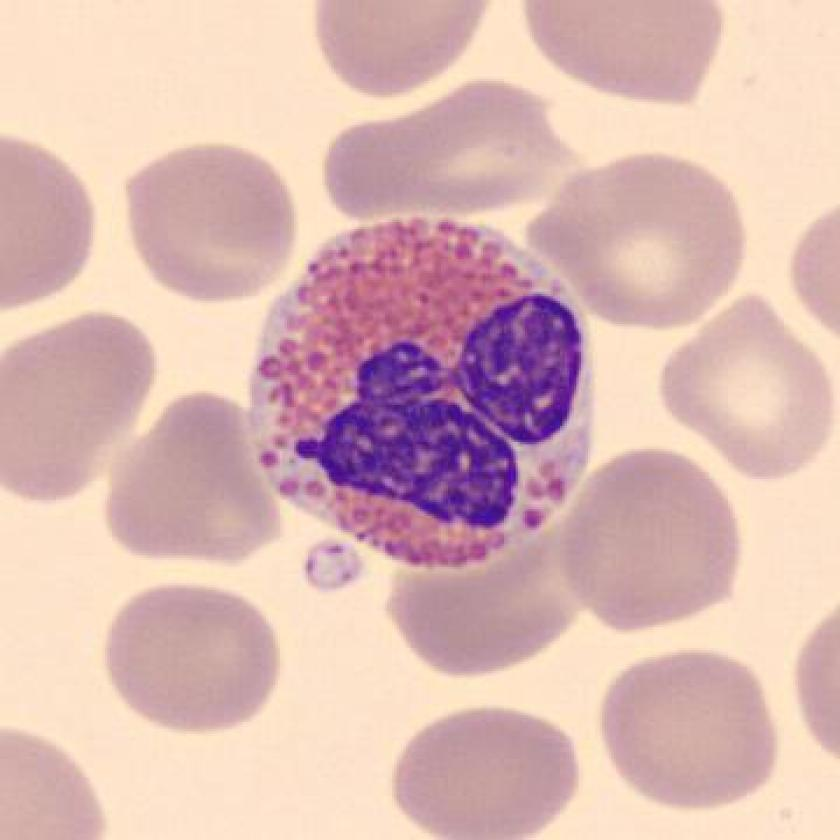eosinophil: (234, 205, 608, 589)
